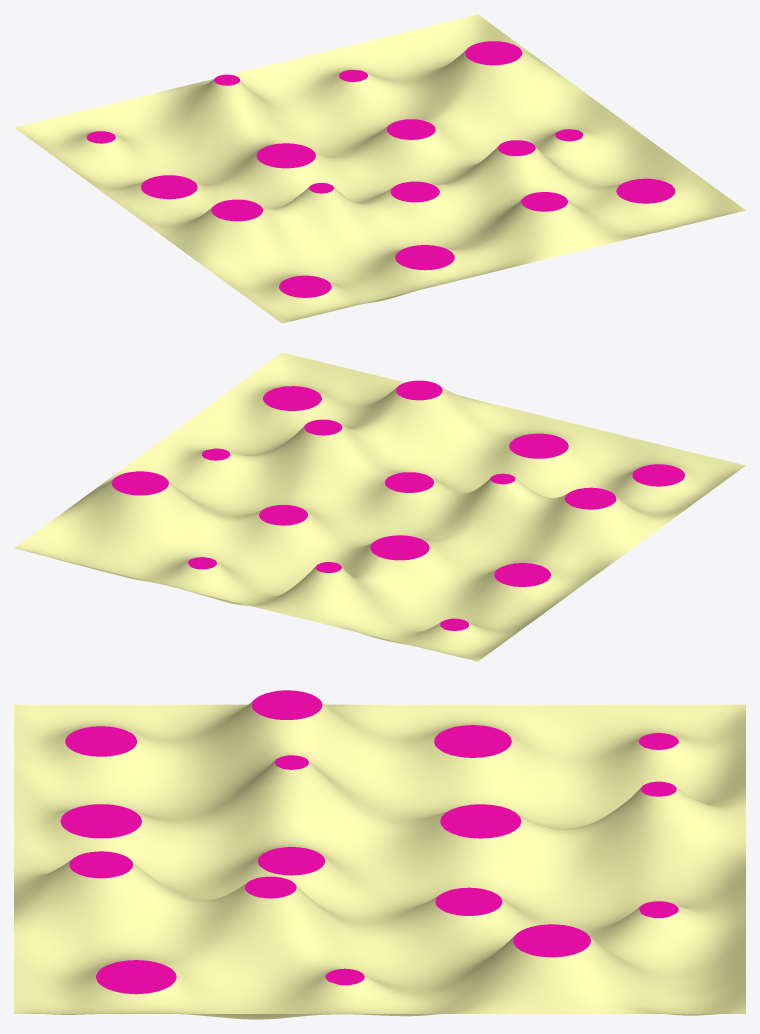
The model's file is Roof_03.fbx.
The picture shows the model from 3 angles, top to bottom: view 1: azimuth 30°, elevation 25°; view 2: azimuth 150°, elevation 25°; view 3: azimuth 270°, elevation 25°; orthographic projection. The views are drawn at different scales.
Parts seen in each view (by area): view 1: Roof_v3; view 2: Roof_v3; view 3: Roof_v3.
Part boxes in pixels (left/top/right/bottom): Roof_v3: left=14, top=14, right=745, bottom=323; Roof_v3: left=14, top=352, right=745, bottom=661; Roof_v3: left=14, top=690, right=745, bottom=1019.
Bounding box in the file's own units: 5 × 0.613 × 5.
